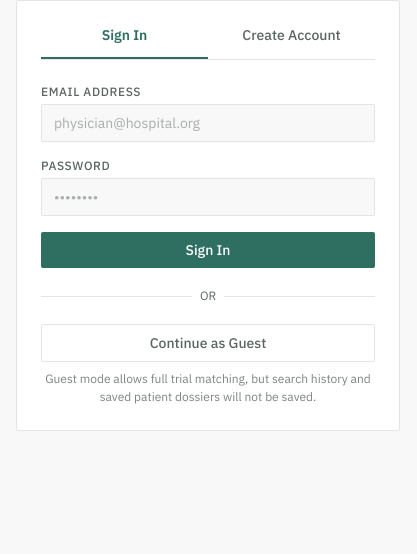
Scenario: AuthForm Component - Keystroke & Input Stability › surfaces network error guidance when sign in returns 'Failed to fetch'
Type "doc@hospital.org" into the field labelled "Email Address" at coordinates (208, 123), box [41,104,375,142]
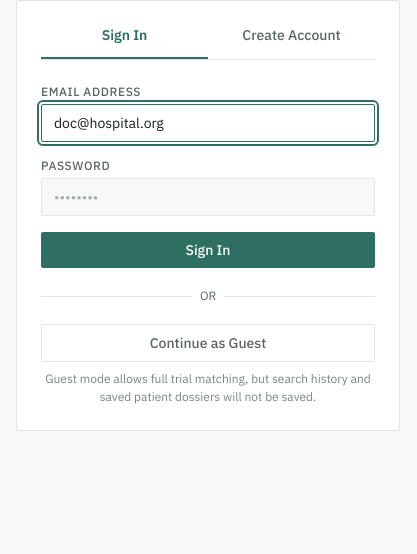
Type "secret123" into the password field labelled "Password" at coordinates (208, 197), box [41,178,375,216]
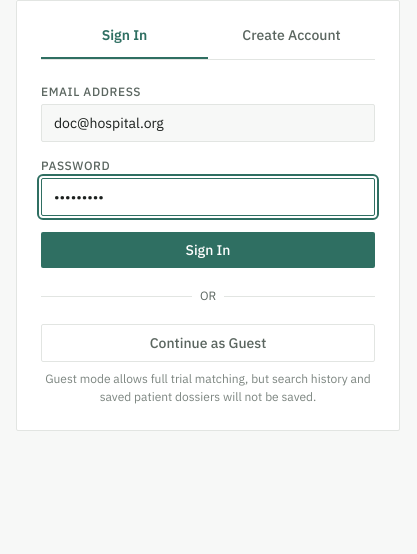
Click the button with test id "auth-submit-btn" at coordinates (208, 250), box [41,232,375,268]
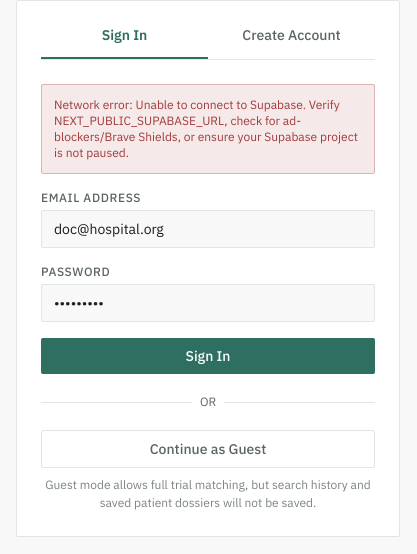
Expected: the message shows "Network error: Unable to connect to Supabase. Verify NEXT_PUBLIC_SUPABASE_URL", [54,97,358,160]
